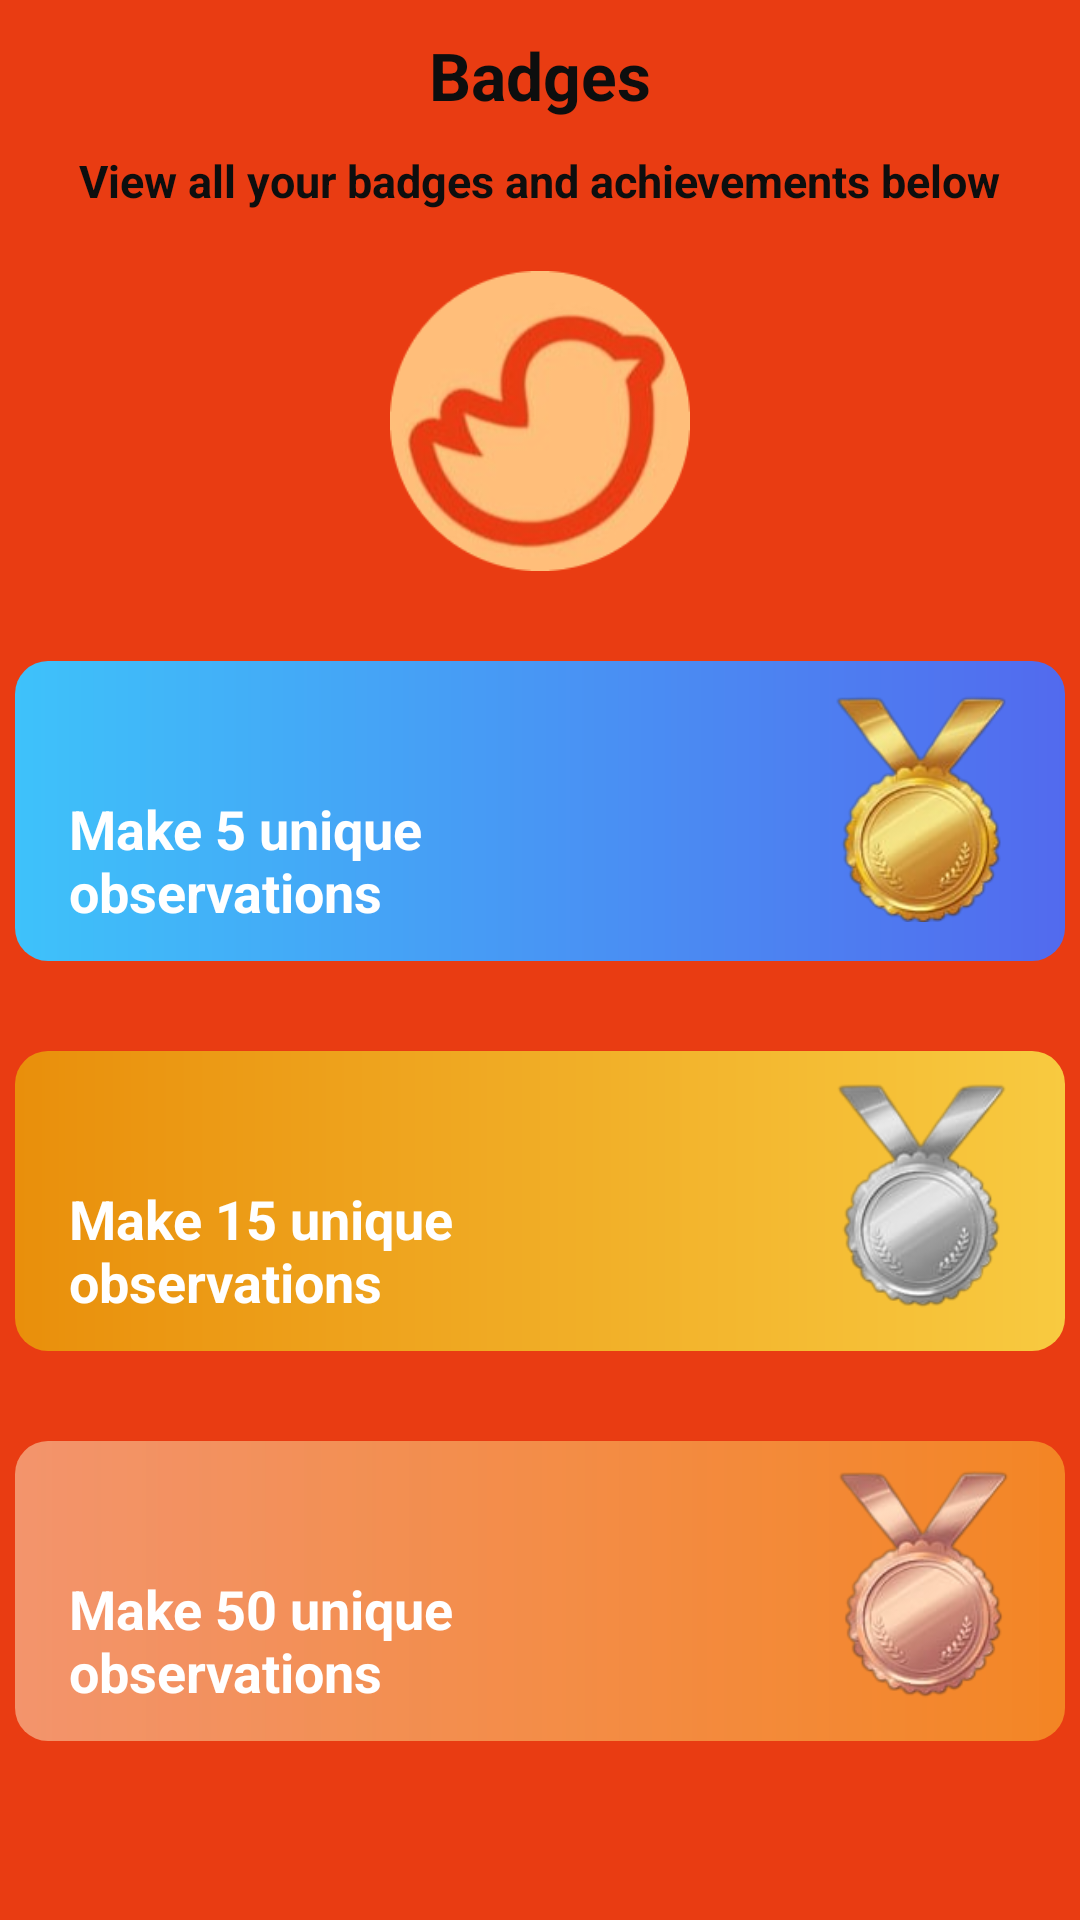

Named icons in this screenshot (1080w x 1920h) and their bounding boxes, (x1, y1, x2, y2):
bronze: (840, 1472, 1007, 1696)
gold: (837, 697, 1005, 922)
silver: (839, 1085, 1004, 1306)
